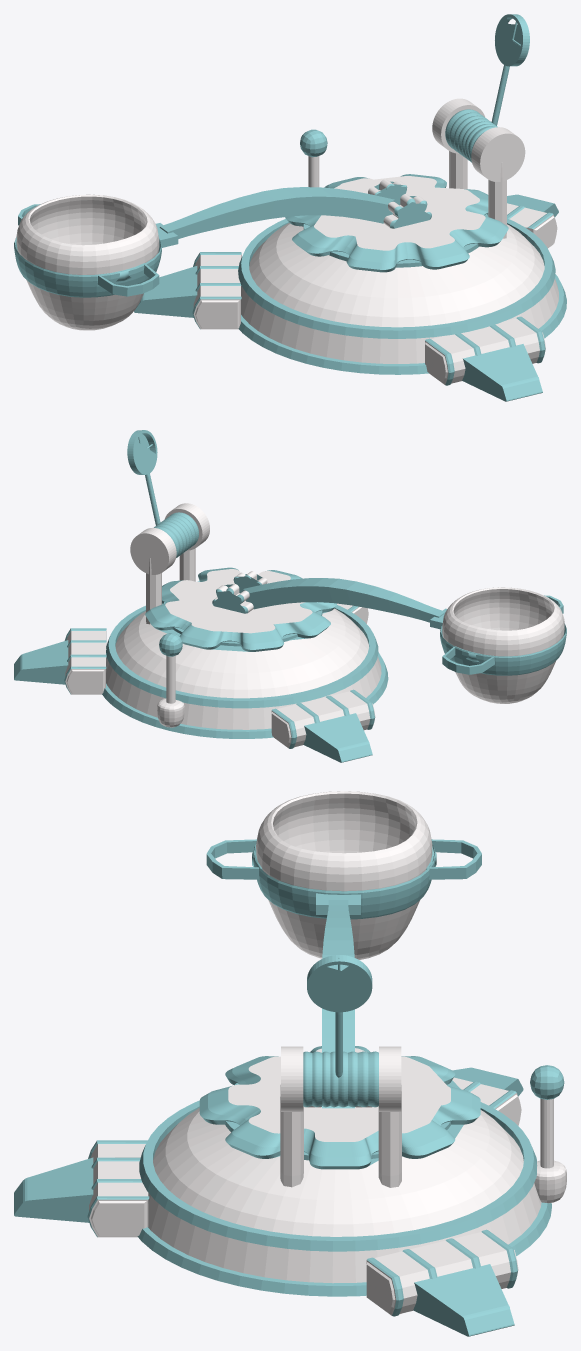
File: mancınık (1).fbx
3 renders of one model, top to bottom at view 1: azimuth 30°, elevation 25°; view 2: azimuth 150°, elevation 25°; view 3: azimuth 270°, elevation 25°, orthographic. The views are drawn at different scales.
Visible parts, largest first — view 1: Cylinder, Cube.019, Cylinder.001, Cube.009; view 2: Cylinder, Cube.019, Cylinder.001, Cube.009; view 3: Cylinder, Cube.019, Cylinder.001, Cube.009.
Part boxes in pixels (x1,y1,x2,y2): Cylinder: [238, 14, 566, 374]; Cube.019: [14, 187, 394, 330]; Cylinder.001: [134, 194, 558, 401]; Cube.009: [300, 129, 327, 187]; Cylinder: [102, 430, 388, 738]; Cube.019: [243, 578, 566, 703]; Cylinder.001: [14, 603, 375, 762]; Cube.009: [159, 633, 182, 703]; Cylinder: [137, 955, 566, 1296]; Cube.019: [206, 791, 481, 1108]; Cylinder.001: [14, 1067, 523, 1336]; Cube.009: [530, 1065, 564, 1168].
Bounding box in the file's own units: 6988 × 2963 × 4567.
